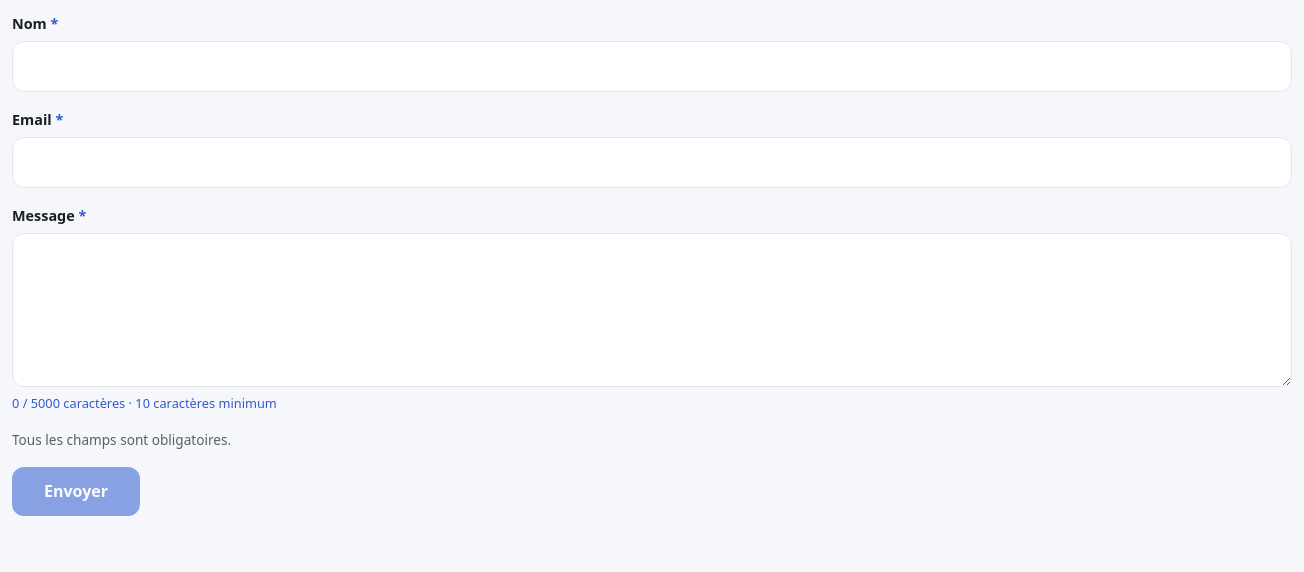
ContactForm › affiche une erreur si la réponse est en échec
This screenshot has width=1304, height=572.
Type "Rudy" into the field with id "cf-name" at (652, 66), box [12,41,1292,92]
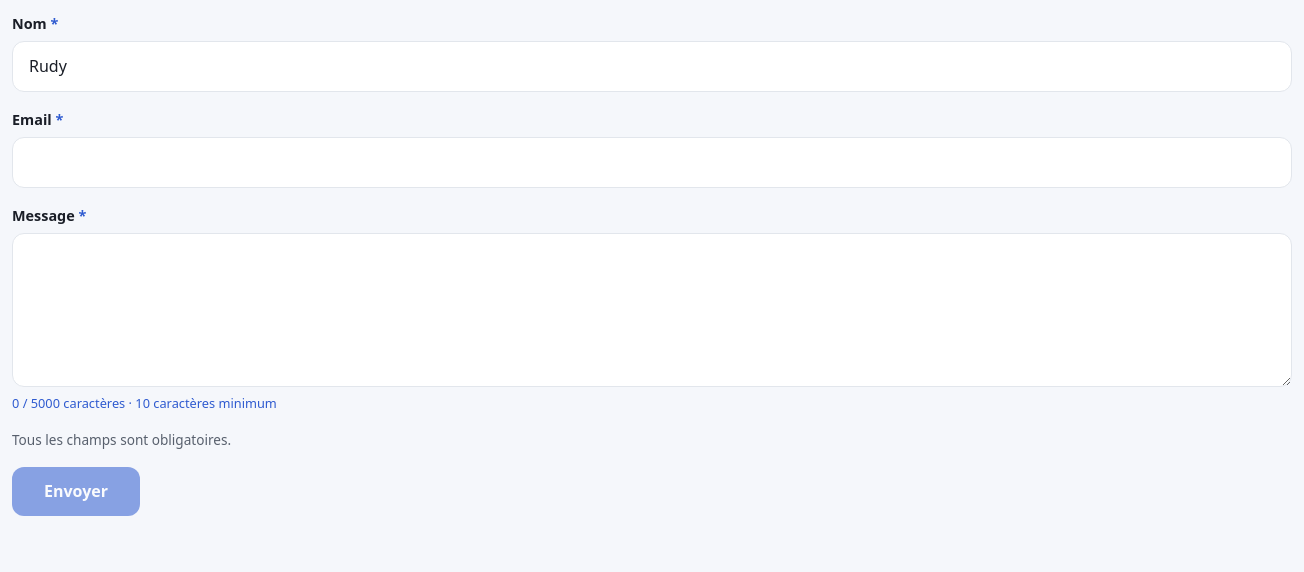
Type "rudy@example.com" into the field with id "cf-email" at (652, 163), box [12,137,1292,188]
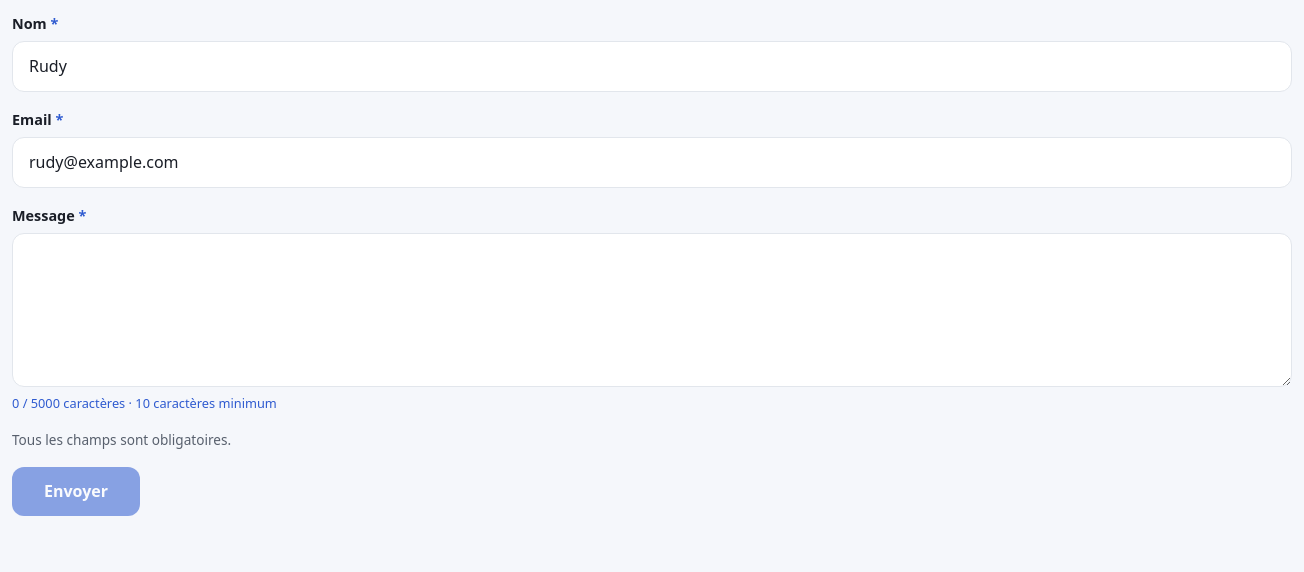
Type "Bonjour, message de test suffisamment long." into the text box with id "cf-message" at (652, 310), box [12,233,1292,387]
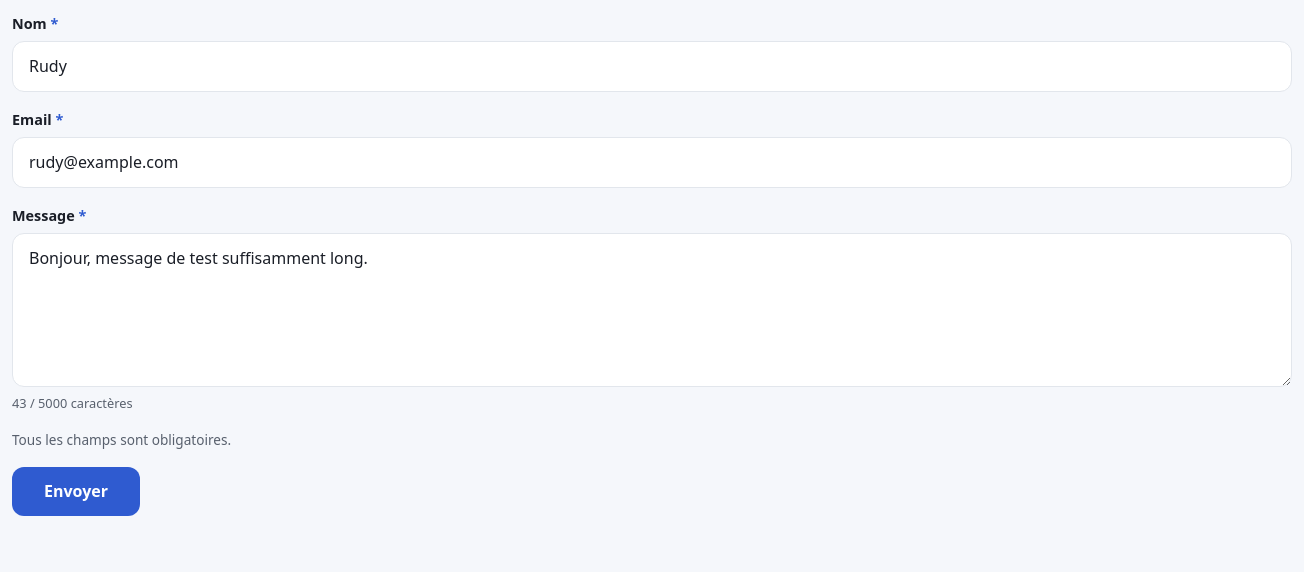
Submit the form
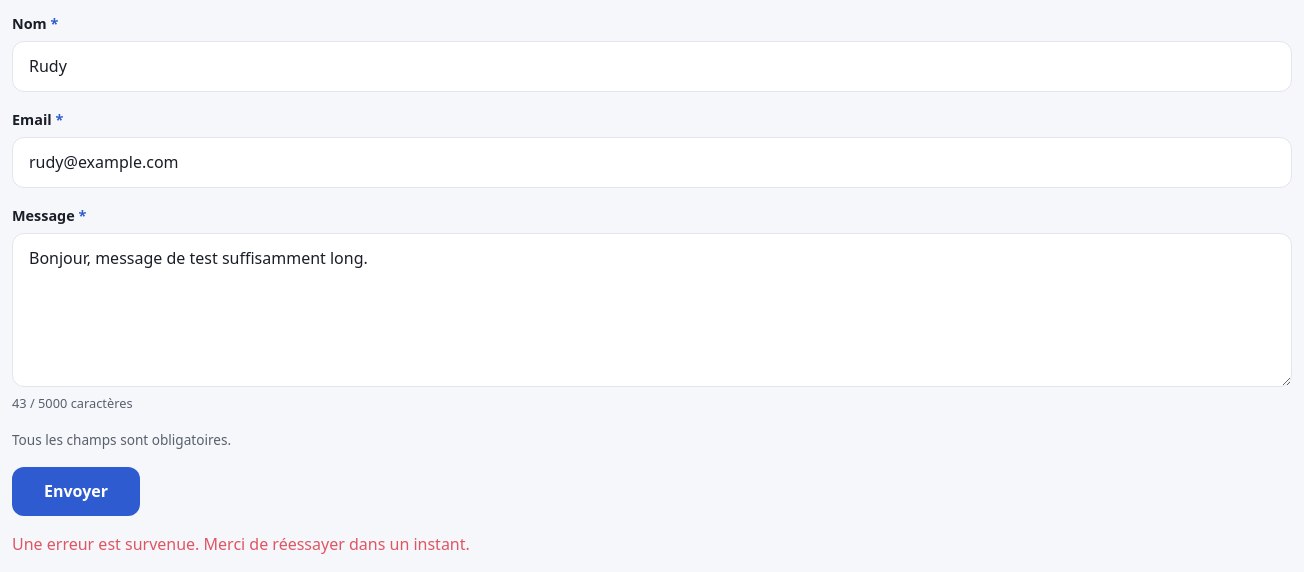
Result: the message "Une erreur est survenue. Merci de réessayer dans un instant." is shown at [12,534,470,556]
